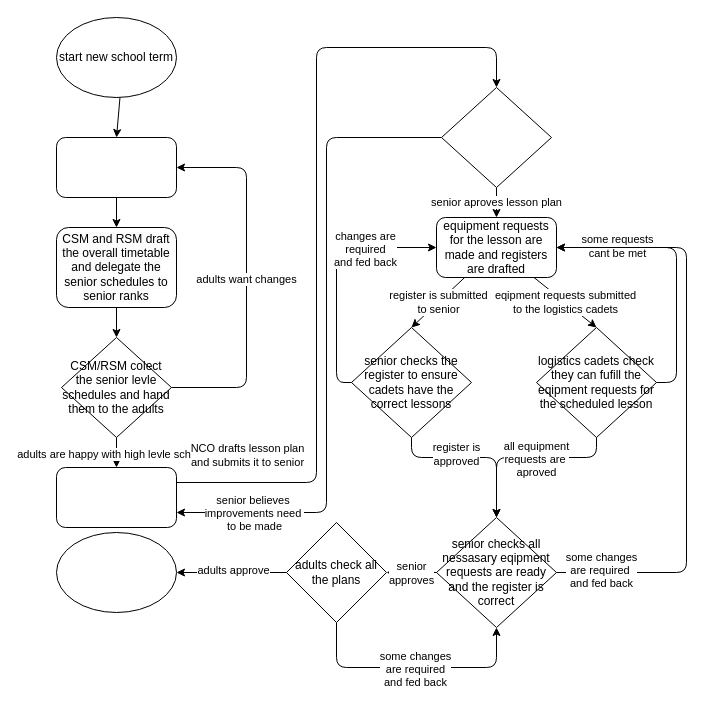
This 713x706 diagram has some shape labels left out. Each missing label, with the centre of its shape:
lesson will be taught: the point at 116,572
meeting betwene adults and RSM/CSM to discus the training program for the term: the point at 116,167
senior cadets further delegate individual lessons to the NCOs': the point at 116,497
senior review the drafted lesson plans to check if it fufills the requirements: the point at 496,137
